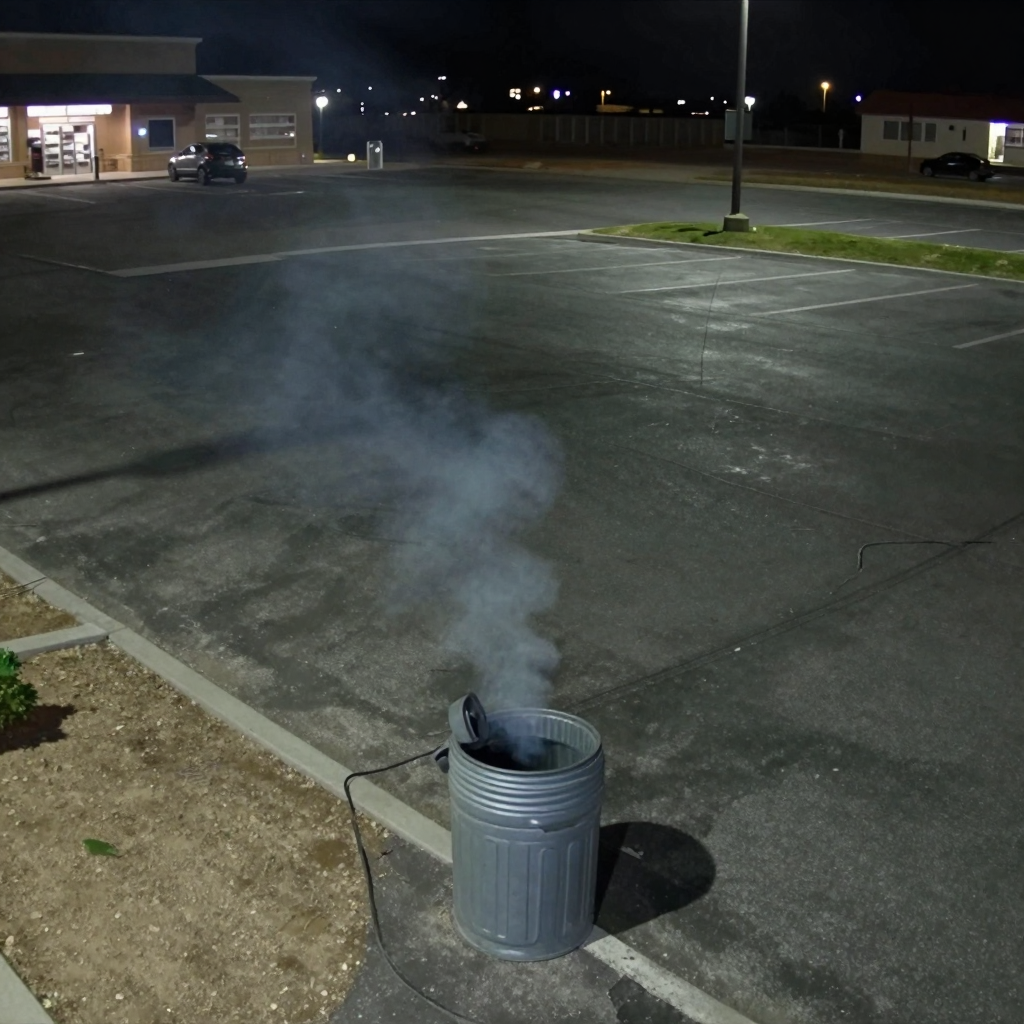Explosion: (217, 118, 635, 752)
